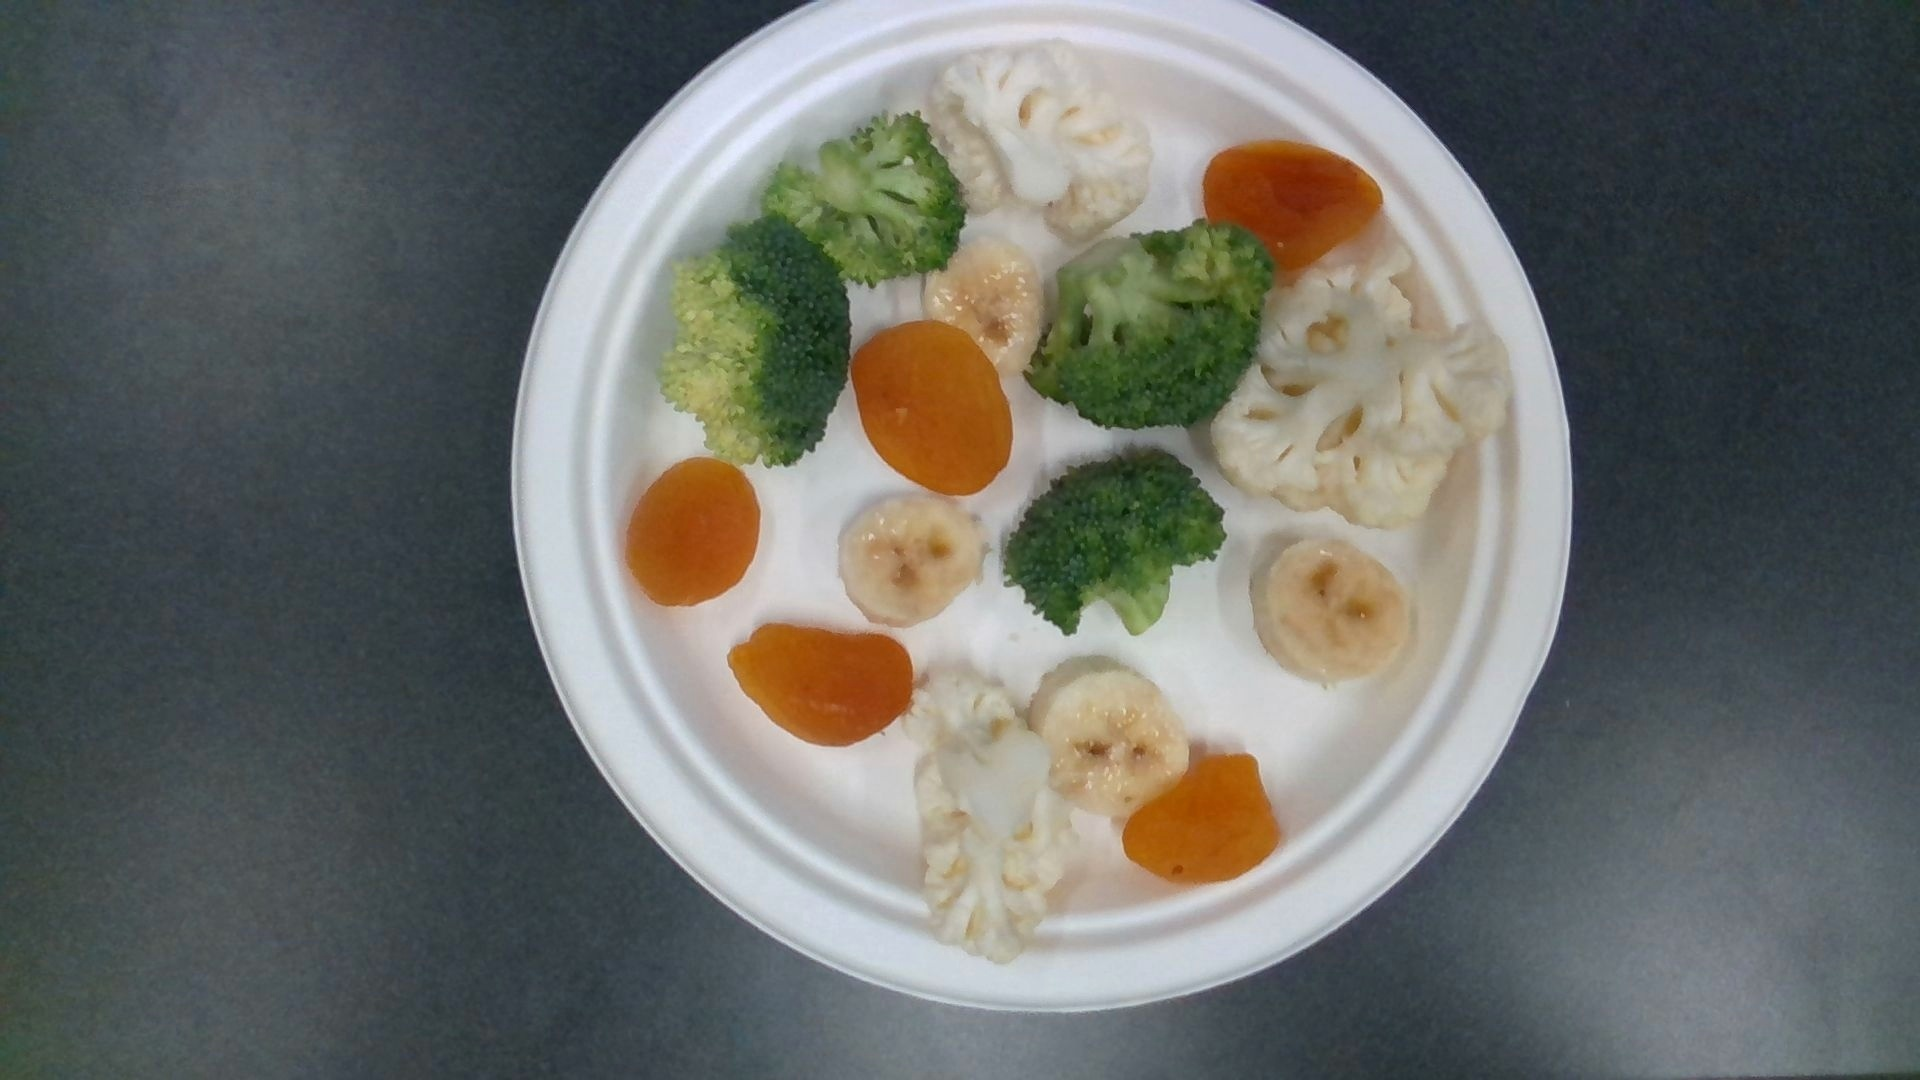apricot: (852, 323, 1011, 493), (1204, 142, 1379, 276), (729, 622, 916, 742), (626, 458, 760, 603), (1125, 758, 1276, 881)
banana: (1029, 661, 1189, 811), (1254, 535, 1412, 680), (839, 496, 980, 625), (924, 236, 1042, 365)
broccoli: (655, 216, 851, 462), (1029, 229, 1270, 421), (1004, 454, 1226, 636), (769, 113, 960, 281)
cauliflower: (1212, 247, 1507, 525), (905, 663, 1079, 961), (924, 44, 1149, 235)
